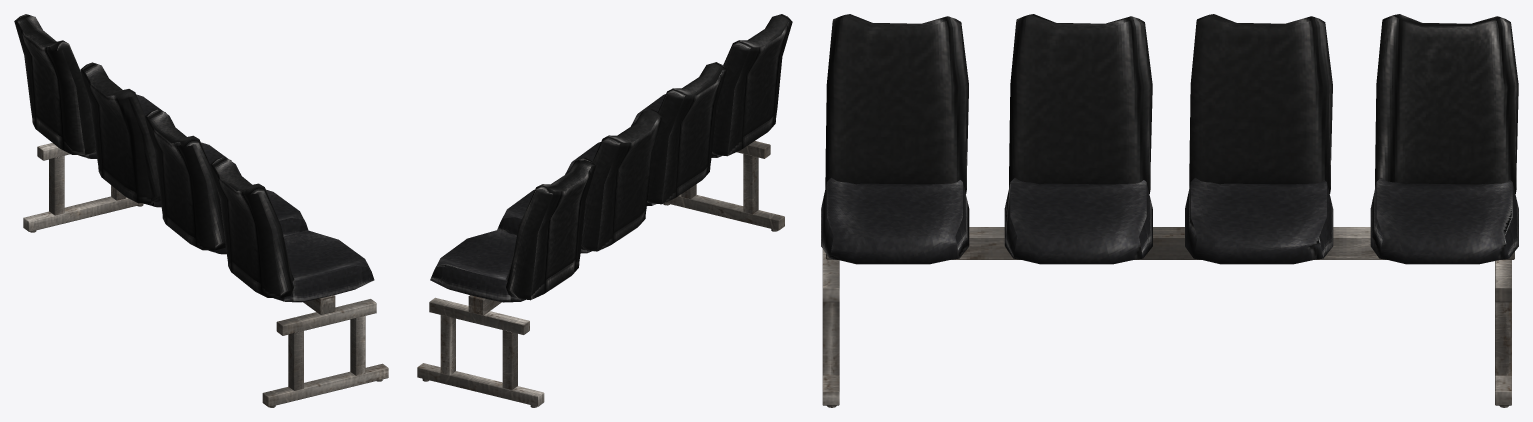
Rendered from chairs.fbx.
The picture shows the model from 3 angles, left to right: view 1: azimuth 30°, elevation 25°; view 2: azimuth 150°, elevation 25°; view 3: azimuth 270°, elevation 25°; orthographic projection. The views are drawn at different scales.
Parts seen in each view (by area): view 1: polySurface17; view 2: polySurface17; view 3: polySurface17.
Part boxes in pixels (x1,y1,x2,y2): polySurface17: (14, 14, 388, 407); polySurface17: (417, 14, 792, 407); polySurface17: (821, 14, 1518, 407).
Size of the model in its own units: 0.9138 by 1.43 by 2.92.
